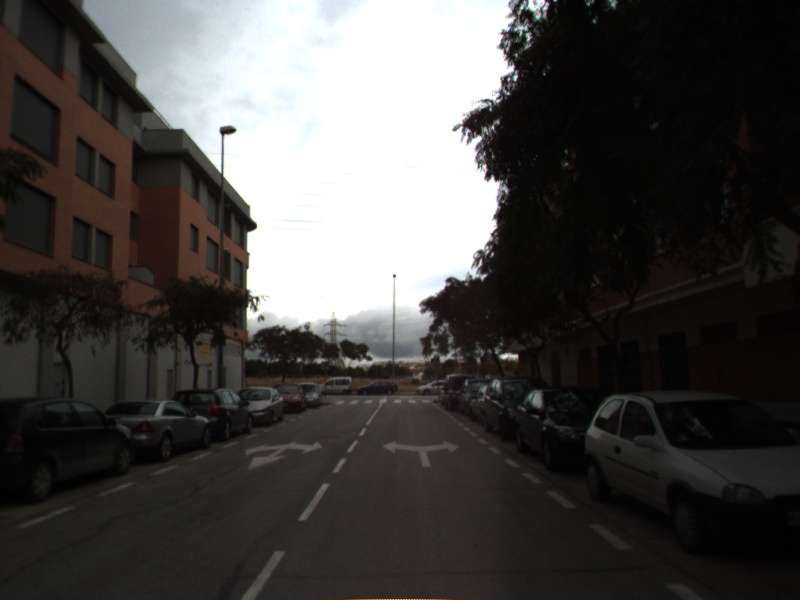LEFT_RIGHT: (380, 438, 462, 469)
